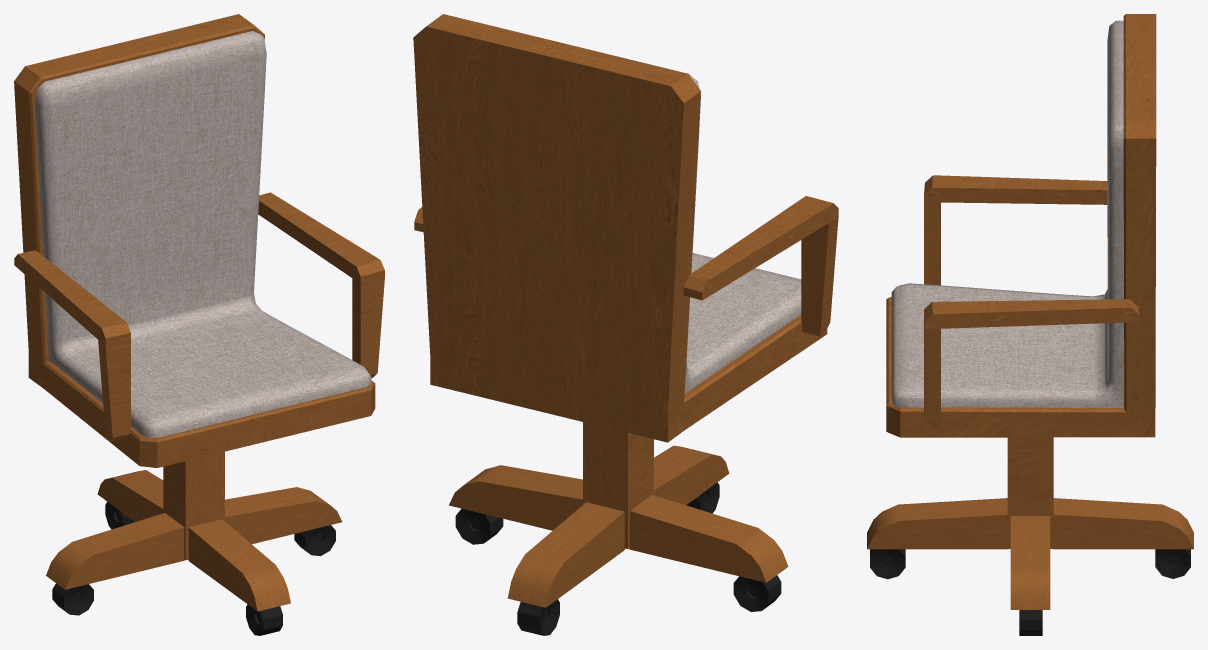
The model's file is chair.fbx.
3 views of the same model, side by side, from view 1: azimuth 30°, elevation 25°; view 2: azimuth 150°, elevation 25°; view 3: azimuth 270°, elevation 25° (orthographic). The views are drawn at different scales.
Parts seen in each view (by area): view 1: polySurface3; view 2: polySurface3; view 3: polySurface3.
Part boxes in pixels (x1,y1,x2,y2): polySurface3: [14, 14, 384, 635]; polySurface3: [413, 14, 838, 635]; polySurface3: [867, 14, 1193, 635].
Size of the model in its own units: 0.6307 by 1.07 by 0.626.
